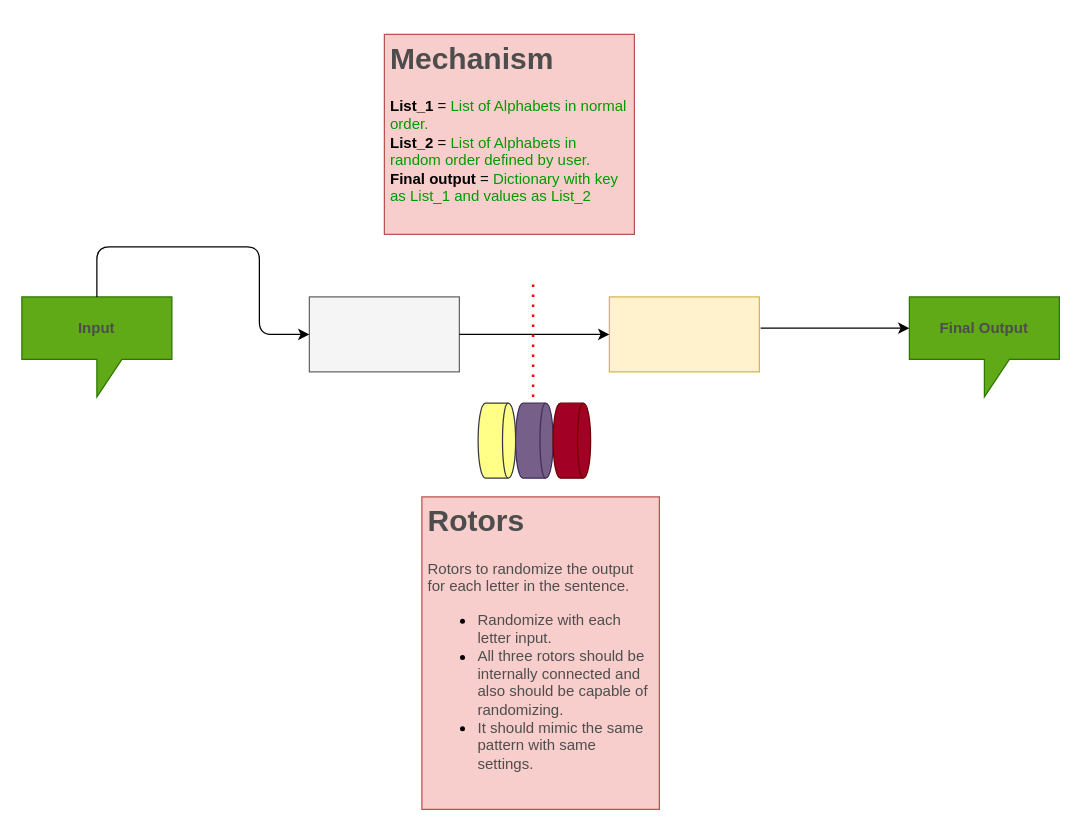
This 1081x831 diagram has some shape labels left out. The shapes that lost their labels are listed below. From the top down, each one's centre as x and y in pixels, then its label:
At [383,334]: "Regularly Placed Alphabets".
At [683,334]: "Mapped Alphabets".
